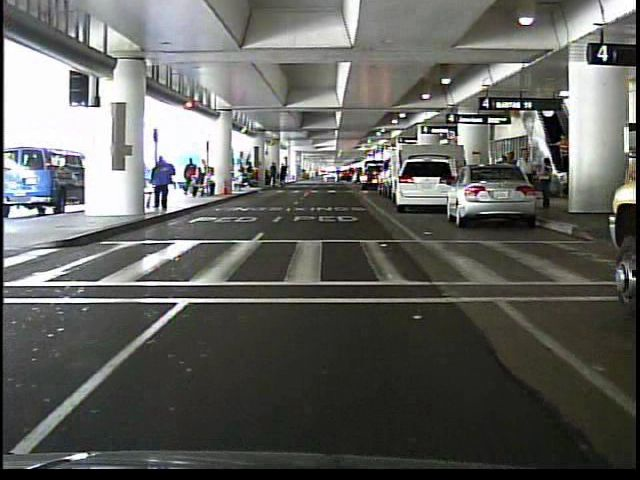person: (148, 154, 176, 211)
